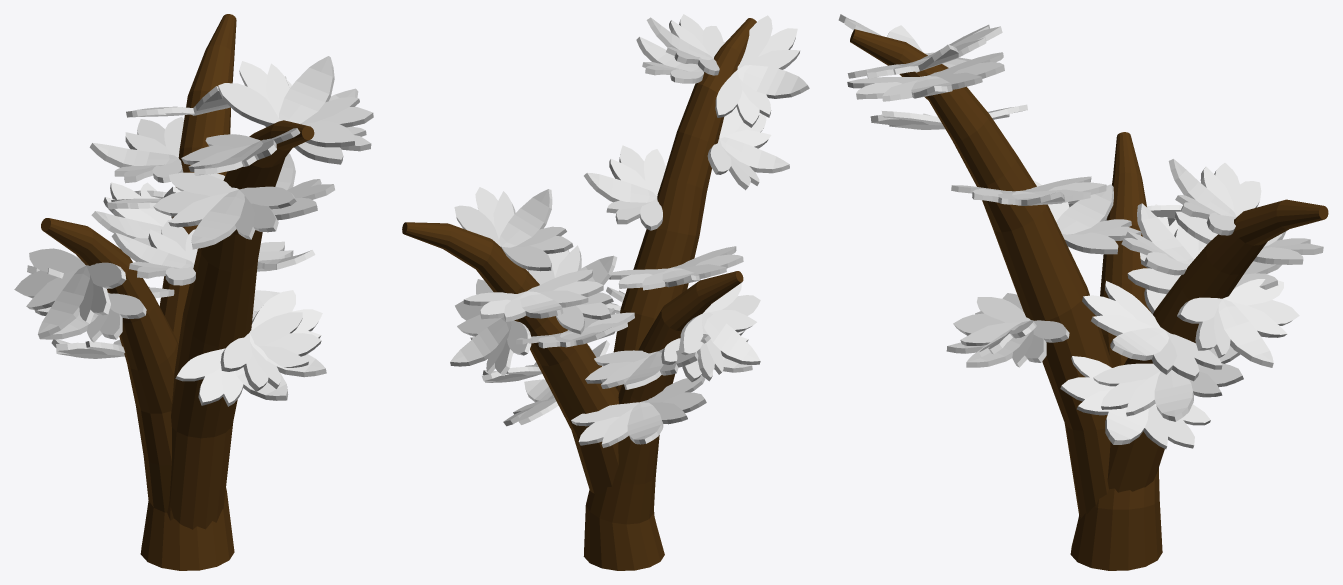
The model's file is Arbusto2Hoja3Otoño.fbx.
The picture shows the model from 3 angles, left to right: view 1: azimuth 30°, elevation 25°; view 2: azimuth 150°, elevation 25°; view 3: azimuth 270°, elevation 25°; orthographic projection. The views are drawn at different scales.
Visible parts, largest first — view 1: RamasArbusto2Hoja3Otoño; view 2: RamasArbusto2Hoja3Otoño; view 3: RamasArbusto2Hoja3Otoño.
Part boxes in pixels (x1,y1,x2,y2): RamasArbusto2Hoja3Otoño: [14, 14, 373, 570]; RamasArbusto2Hoja3Otoño: [402, 14, 809, 570]; RamasArbusto2Hoja3Otoño: [838, 14, 1328, 570].
Bounding box in the file's own units: 74.9 × 127 × 106.
